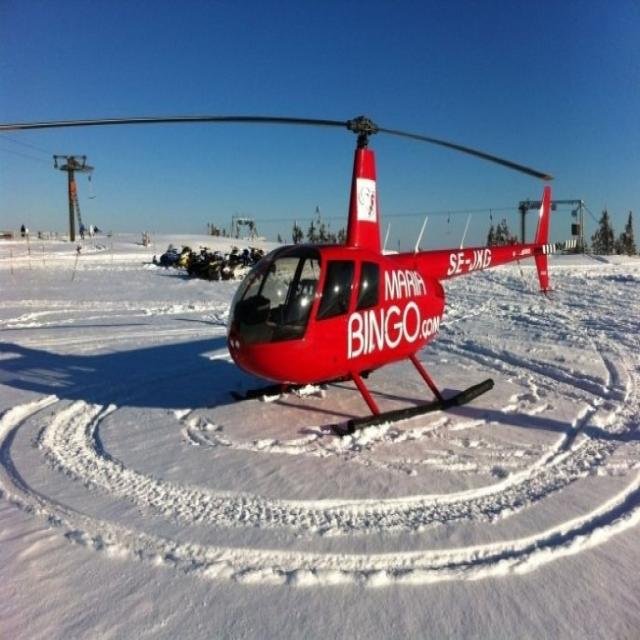CIV_HELO: (224, 112, 562, 440)
